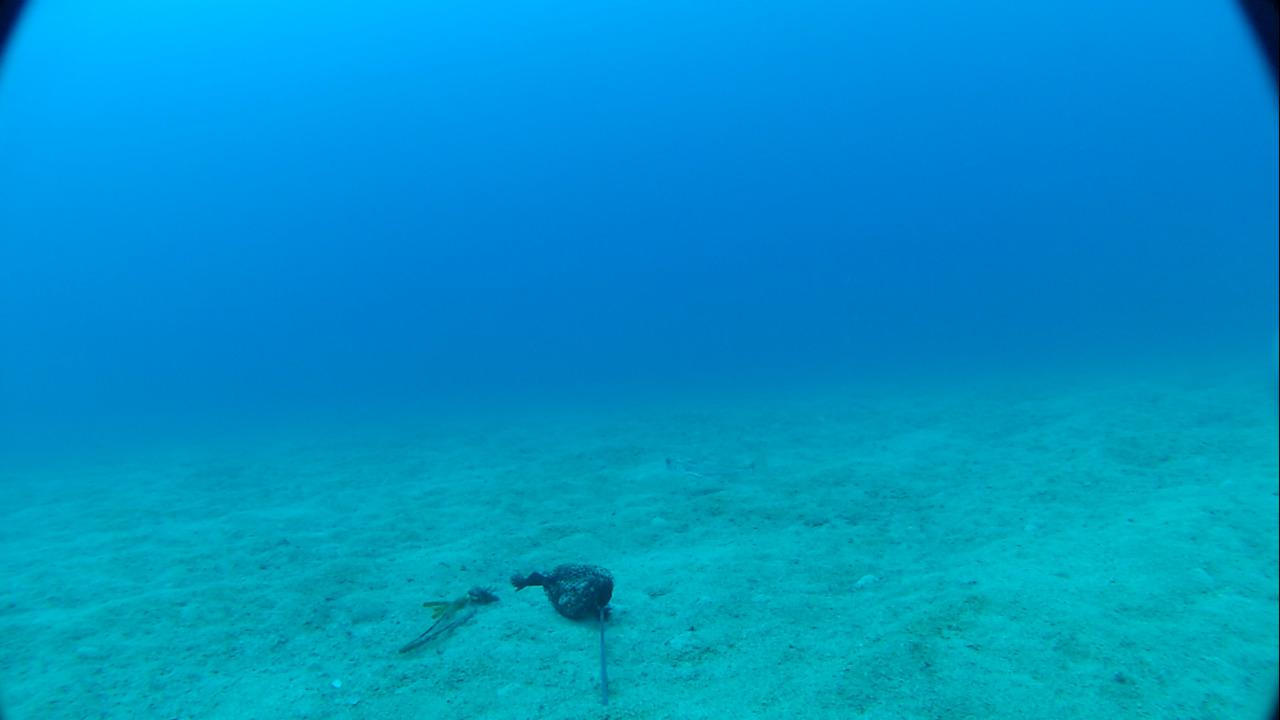dactylopterus: (651, 439, 797, 488)
